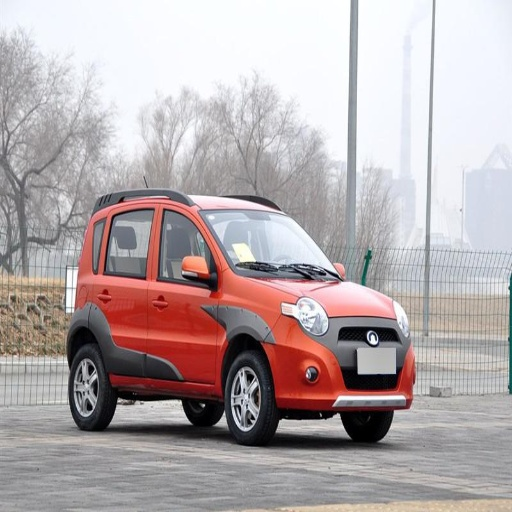front_bumper: (271, 316, 412, 411)
front_right_door: (147, 203, 221, 384)
front_right_light: (284, 298, 328, 338)
